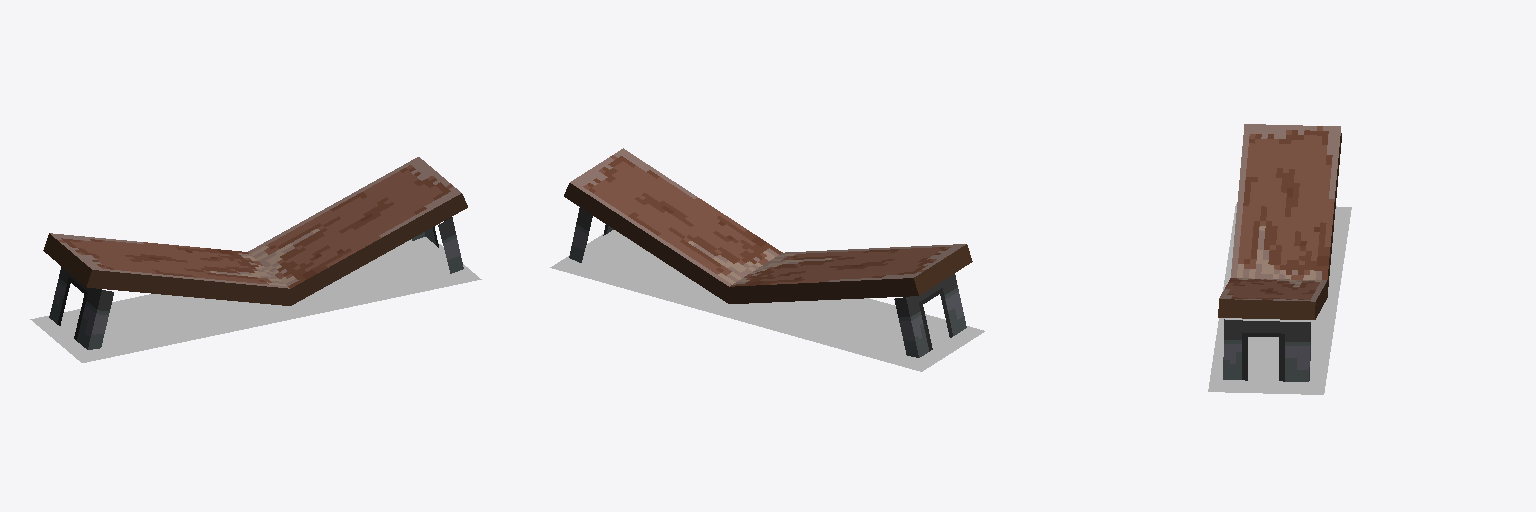
3 views of the same model, side by side, from view 1: azimuth 30°, elevation 25°; view 2: azimuth 150°, elevation 25°; view 3: azimuth 270°, elevation 25° (orthographic).
Visible parts, largest first — view 1: polygon0, polygon1; view 2: polygon0, polygon1; view 3: polygon0, polygon1.
Part boxes in pixels (x1,y1,x2,y2): polygon0: (43, 157, 467, 349); polygon1: (30, 237, 481, 362); polygon0: (564, 148, 972, 357); polygon1: (550, 230, 984, 371); polygon0: (1218, 124, 1341, 381); polygon1: (1208, 204, 1351, 394).
Size of the model in its own units: 11.66 by 2.47 by 3.71.
Materials: 2 (1 with a texture image).